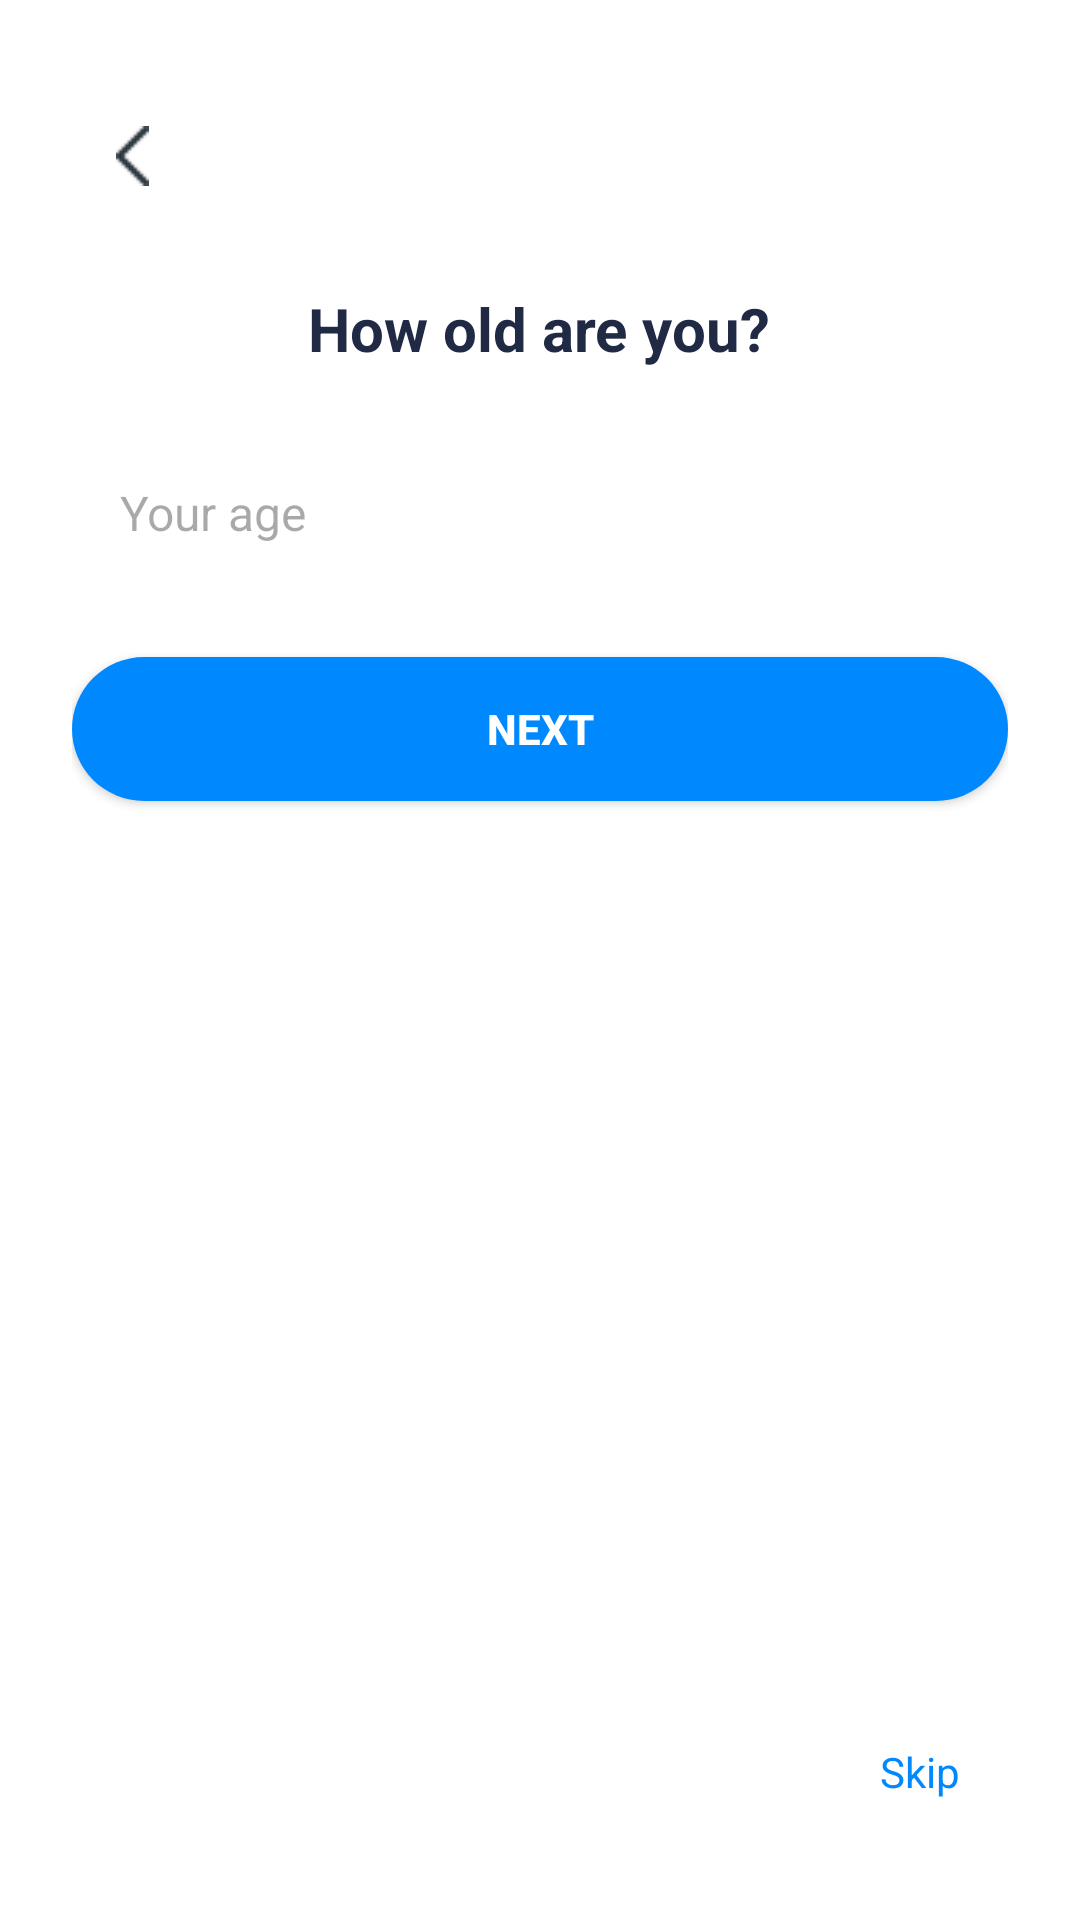

Icon bounding boxes for this 1080 x 1920 phone screenshot, format (x1, y1, x2, y2):
Back: (116, 126, 149, 186)
